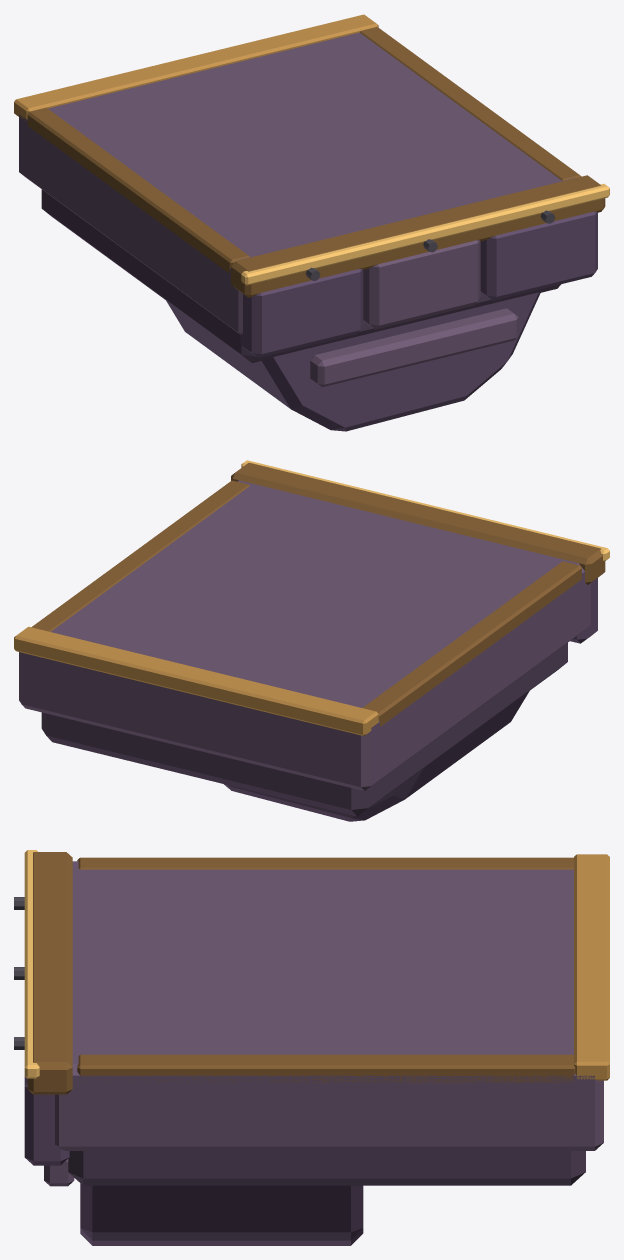
The model's file is SM_Vault_RetakeDeck_04.fbx.
The picture shows the model from 3 angles, top to bottom: view 1: azimuth 30°, elevation 25°; view 2: azimuth 150°, elevation 25°; view 3: azimuth 270°, elevation 25°; orthographic projection. The views are drawn at different scales.
Visible parts, largest first — view 1: SM_Vault_RetakeDeck_04; view 2: SM_Vault_RetakeDeck_04; view 3: SM_Vault_RetakeDeck_04.
Part boxes in pixels (left/top/right/bottom): SM_Vault_RetakeDeck_04: left=14, top=14, right=609, bottom=431; SM_Vault_RetakeDeck_04: left=14, top=460, right=609, bottom=821; SM_Vault_RetakeDeck_04: left=14, top=850, right=609, bottom=1245.
Size of the model in its own units: 171 by 198 by 92.93.
